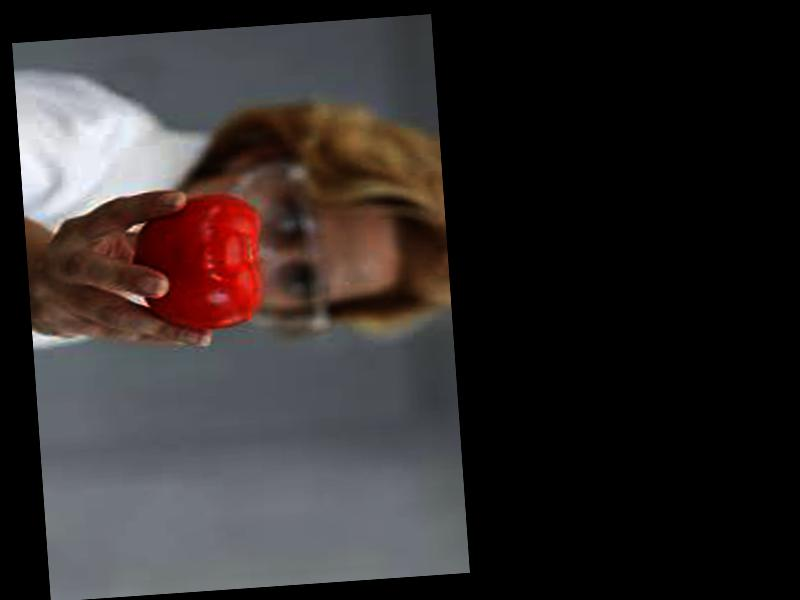Tomato: (132, 188, 264, 333)
